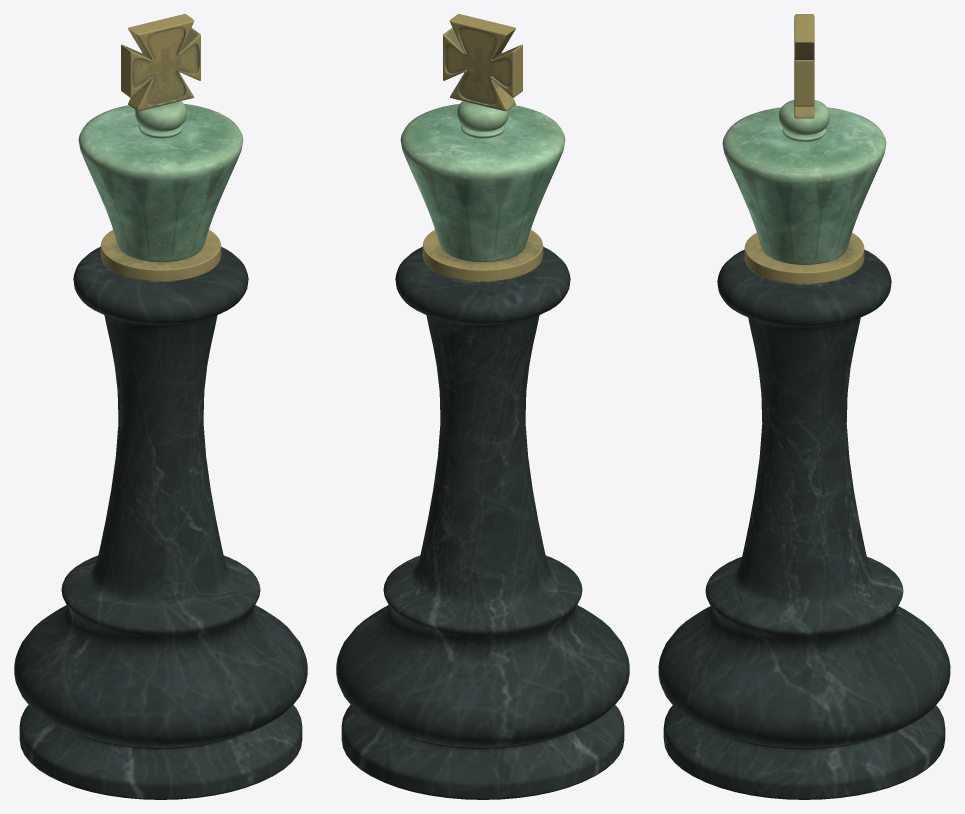
The model's file is B_King.glb.
The picture shows the model from 3 angles, left to right: view 1: azimuth 30°, elevation 25°; view 2: azimuth 150°, elevation 25°; view 3: azimuth 270°, elevation 25°; orthographic projection.
Visible parts, largest first — view 1: King_B; view 2: King_B; view 3: King_B.
Part boxes in pixels (left/top/right/bottom): King_B: left=14, top=14, right=307, bottom=799; King_B: left=336, top=14, right=629, bottom=799; King_B: left=658, top=14, right=950, bottom=799.
Size of the model in its own units: 0.0561 by 0.1515 by 0.0561.
Materials: 1 (1 with a texture image).
